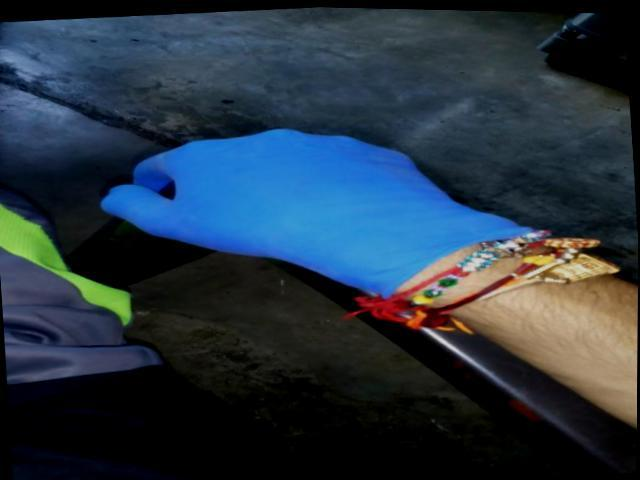Hand-in-Glove: (46, 100, 562, 324)
